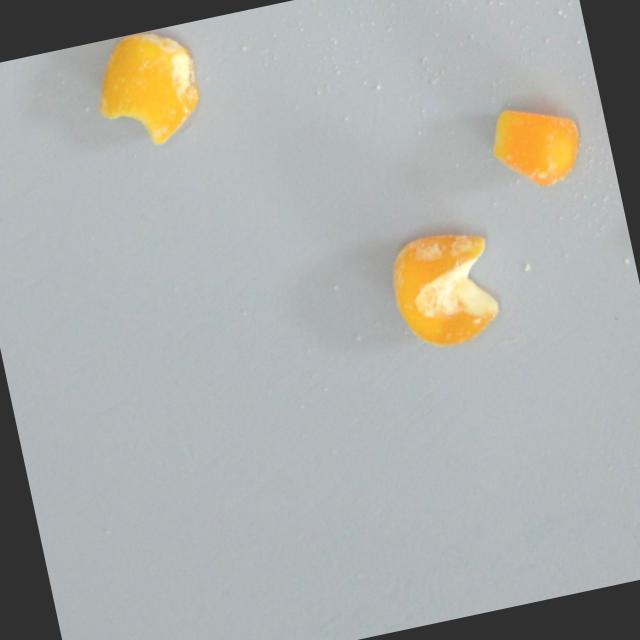pelicula: (379, 224, 509, 357), (82, 22, 207, 155), (479, 94, 589, 200)
